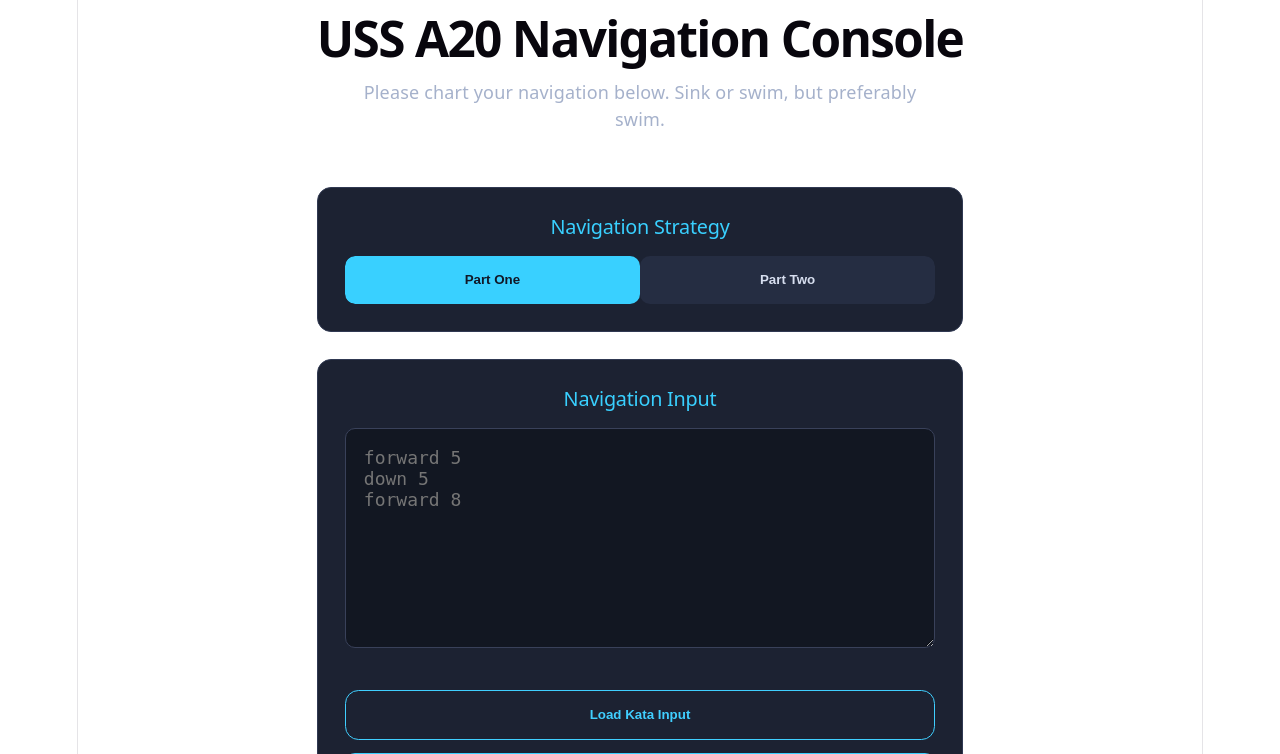
it: NavigationSolver › enables solve when input is entered
This screenshot has width=1280, height=754.
Type "forward 5" into the text box at (640, 538), box [345,428,935,648]
(page scrolled)
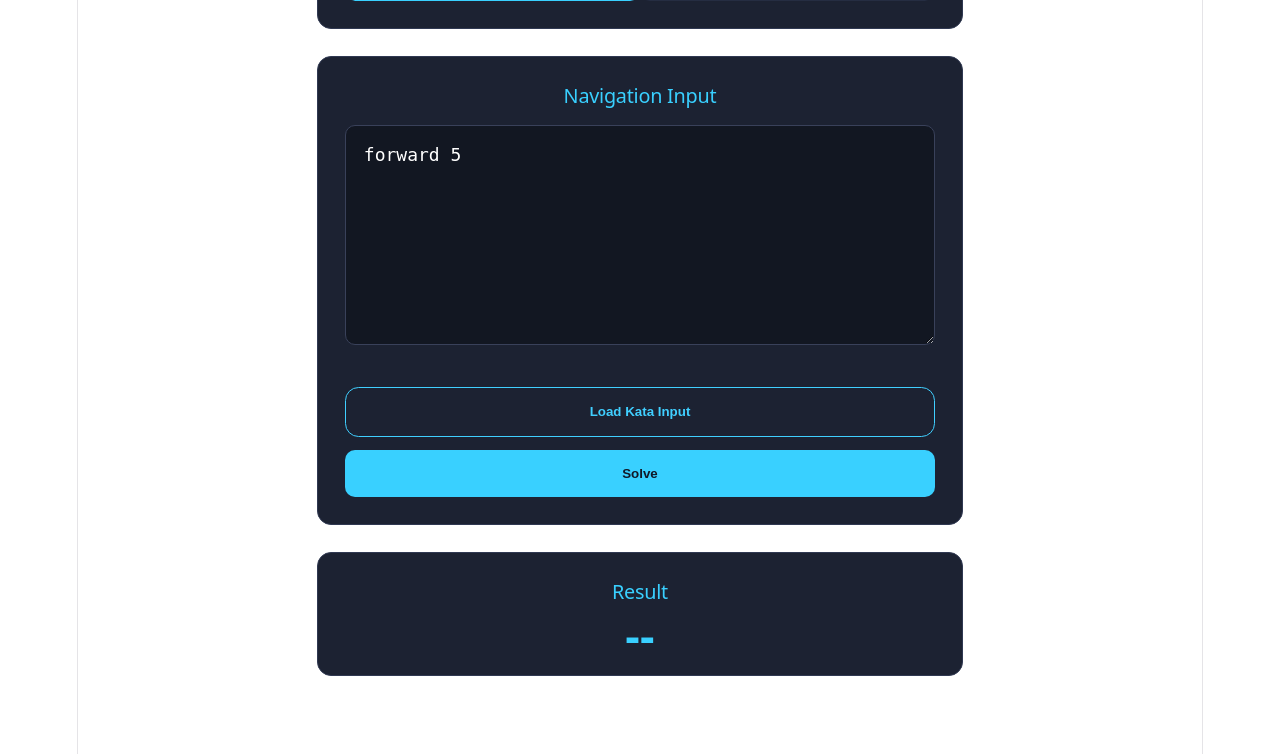
Expected: the button "Solve" is enabled, [345,450,935,497]
